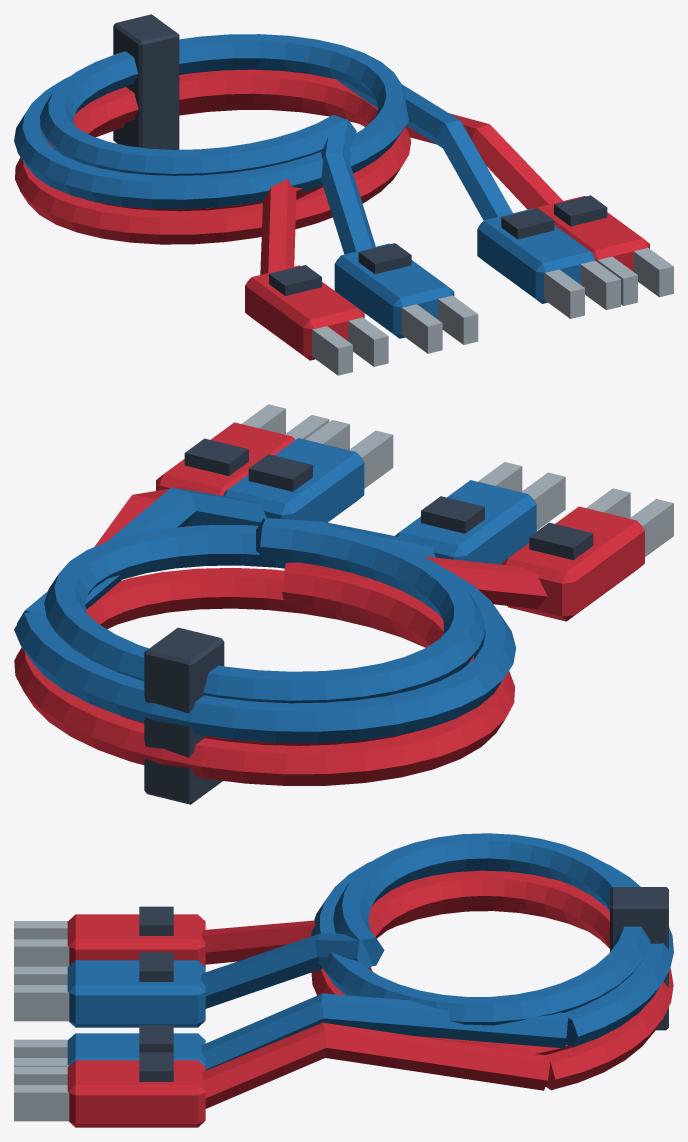
Rendered from Item_BatteryCables.fbx.
3 renders of one model, top to bottom at view 1: azimuth 30°, elevation 25°; view 2: azimuth 150°, elevation 25°; view 3: azimuth 270°, elevation 25°, orthographic. The views are drawn at different scales.
Parts seen in each view (by area): view 1: Item_BatteryCables; view 2: Item_BatteryCables; view 3: Item_BatteryCables.
Part boxes in pixels (<box>): Item_BatteryCables: <box>14,14,673,375</box>; Item_BatteryCables: <box>14,404,673,804</box>; Item_BatteryCables: <box>14,833,673,1127</box>.
Size of the model in its own units: 0.513 by 0.14 by 0.6694.
